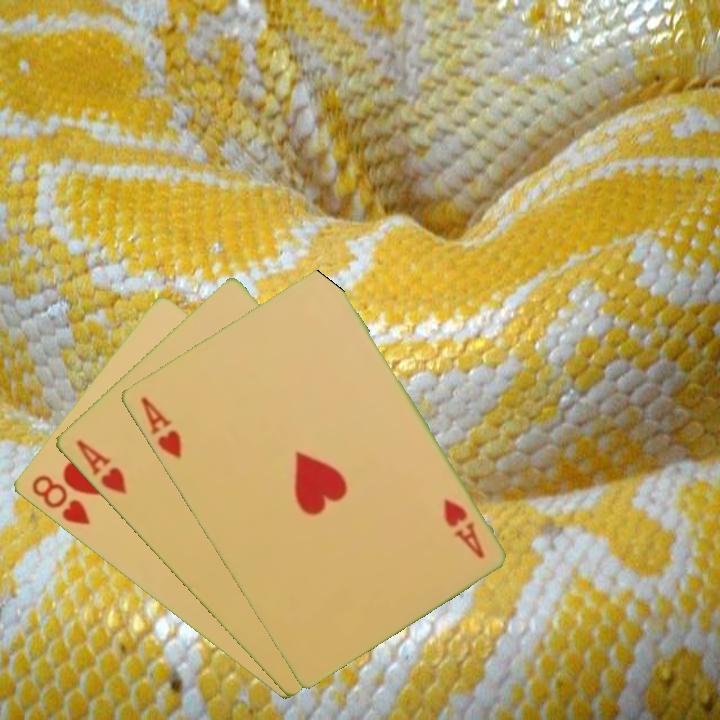8h: (27, 471, 93, 528)
Ah: (72, 436, 129, 497), (136, 393, 184, 461), (439, 495, 487, 562)
